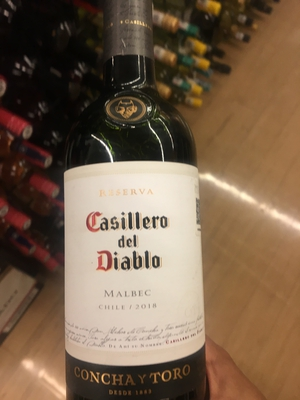casillero del diablo malbec: (54, 25, 217, 400)
